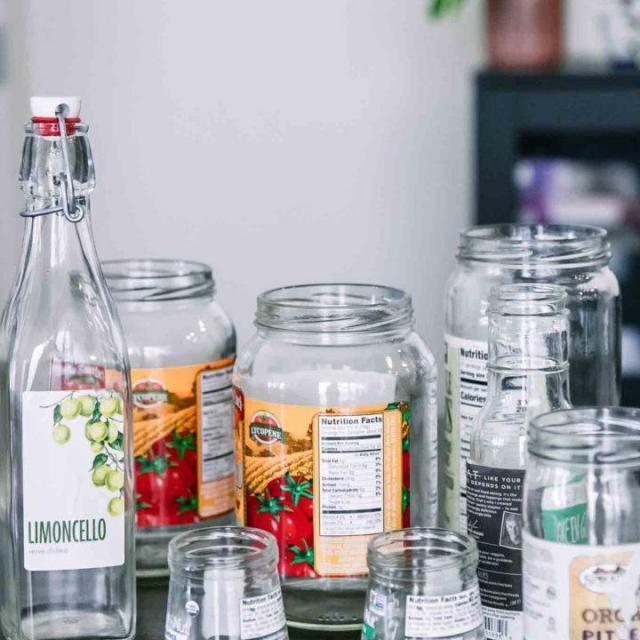glass: (3, 90, 142, 640), (244, 281, 438, 528), (365, 520, 373, 547)
